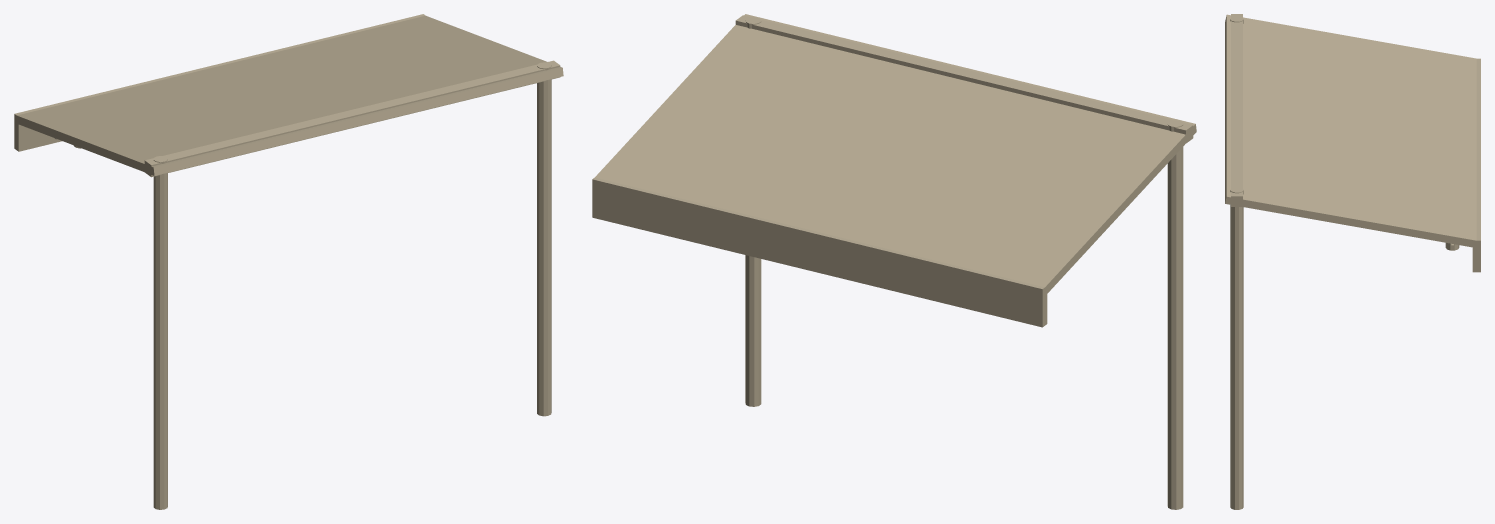
Rendered from gen-market-stall-awning-1.glb.
The picture shows the model from 3 angles, left to right: view 1: azimuth 30°, elevation 25°; view 2: azimuth 150°, elevation 25°; view 3: azimuth 270°, elevation 25°; orthographic projection. The views are drawn at different scales.
Visible parts, largest first — view 1: gen-market-stall-awning-1_part1; view 2: gen-market-stall-awning-1_part1; view 3: gen-market-stall-awning-1_part1.
Boxes of the visible parts, x1,y1,x2,y2 form: gen-market-stall-awning-1_part1: (14, 14, 563, 509); gen-market-stall-awning-1_part1: (592, 14, 1196, 509); gen-market-stall-awning-1_part1: (1225, 14, 1480, 509).
Bounding box in the file's own units: 3200 × 2600 × 1898.
